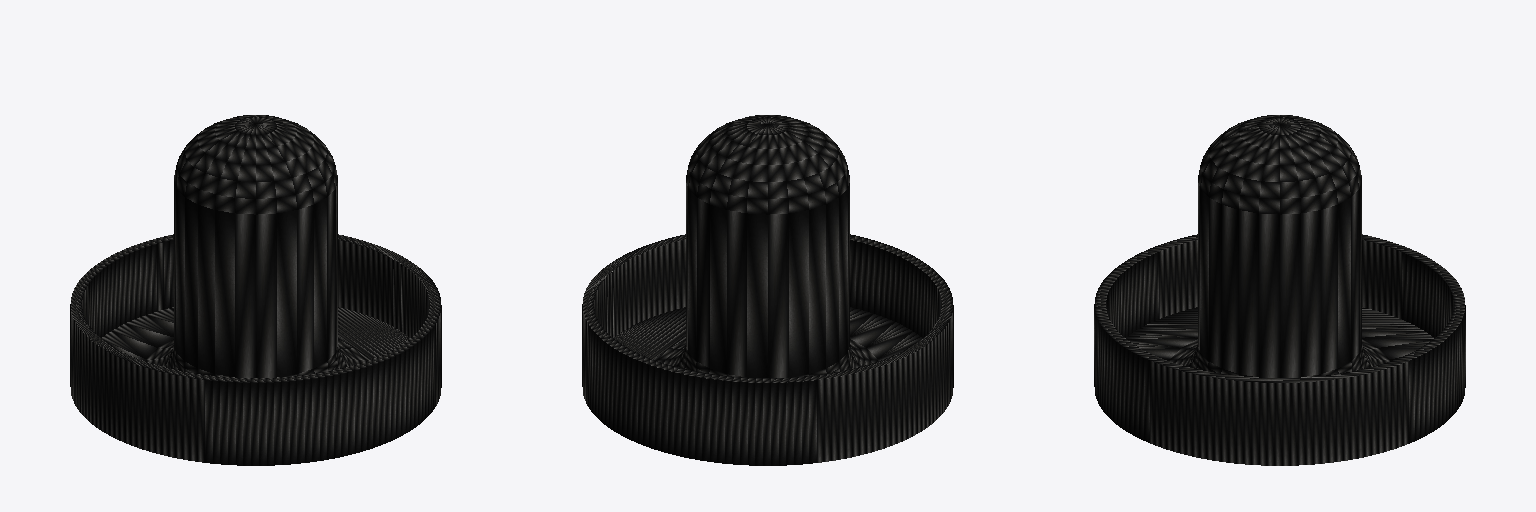
3 renders of one model, left to right at view 1: azimuth 30°, elevation 25°; view 2: azimuth 150°, elevation 25°; view 3: azimuth 270°, elevation 25°, orthographic.
Parts seen in each view (by area): view 1: Stick812; view 2: Stick812; view 3: Stick812.
Boxes of the visible parts, x1=… form: Stick812: x1=70, y1=115, x2=441, y2=465; Stick812: x1=582, y1=115, x2=953, y2=465; Stick812: x1=1094, y1=115, x2=1465, y2=465.
Size of the model in its own units: 0.7678 by 0.6007 by 0.7679.
1 materials, 1 textured.